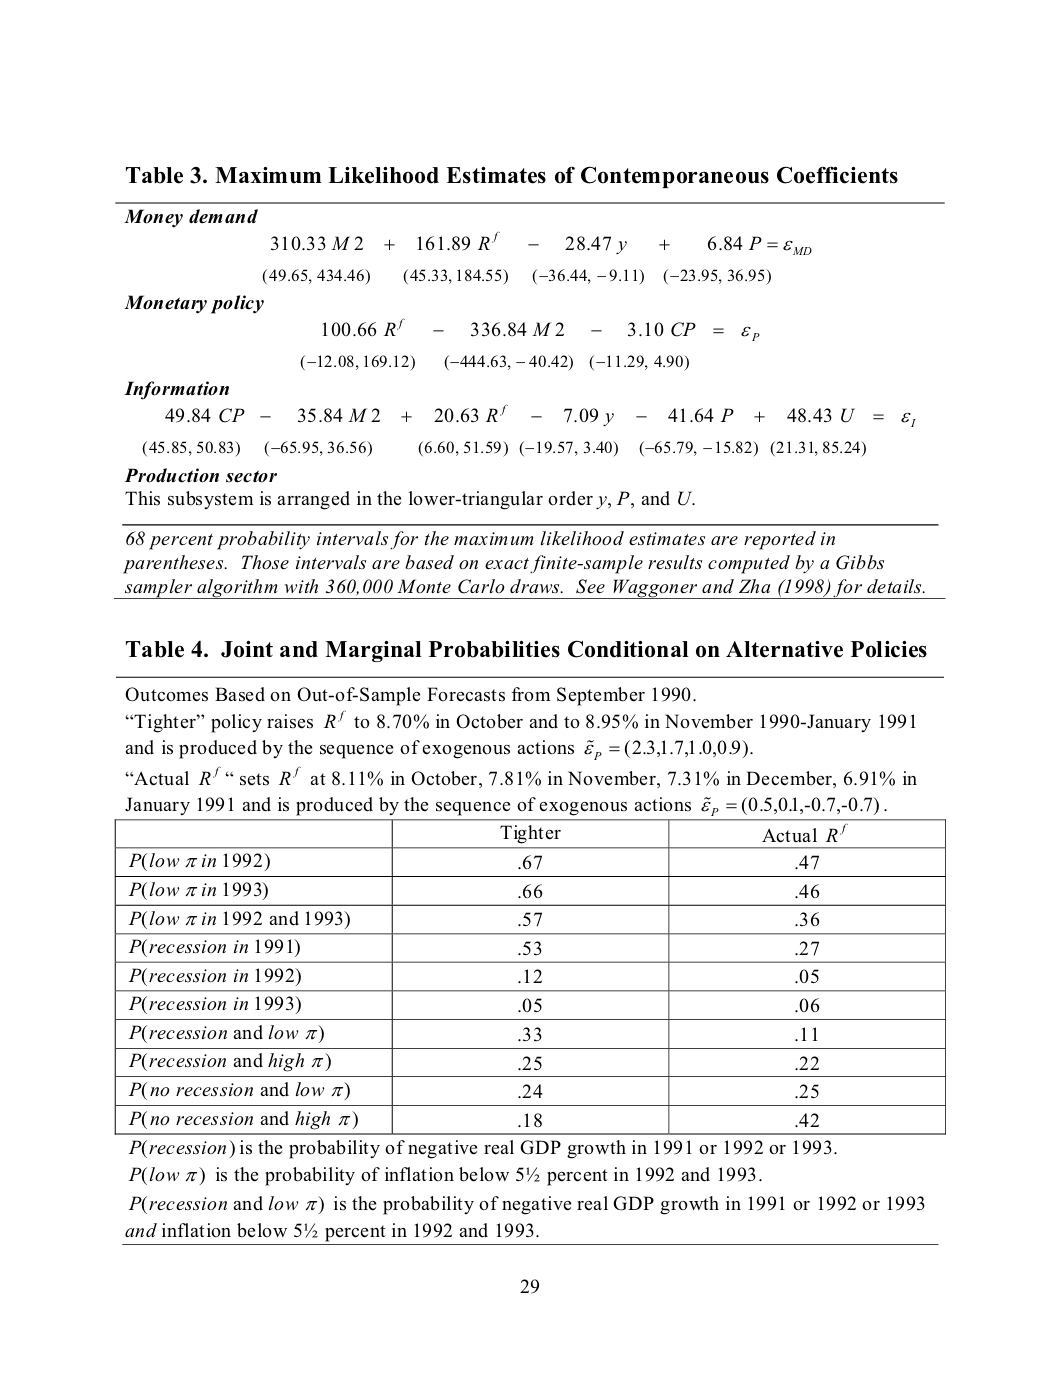Table: (114, 795, 945, 1135)
formula: (165, 403, 915, 427), (271, 230, 811, 255), (142, 440, 865, 457), (322, 317, 759, 341), (262, 267, 770, 285), (300, 354, 688, 371)
